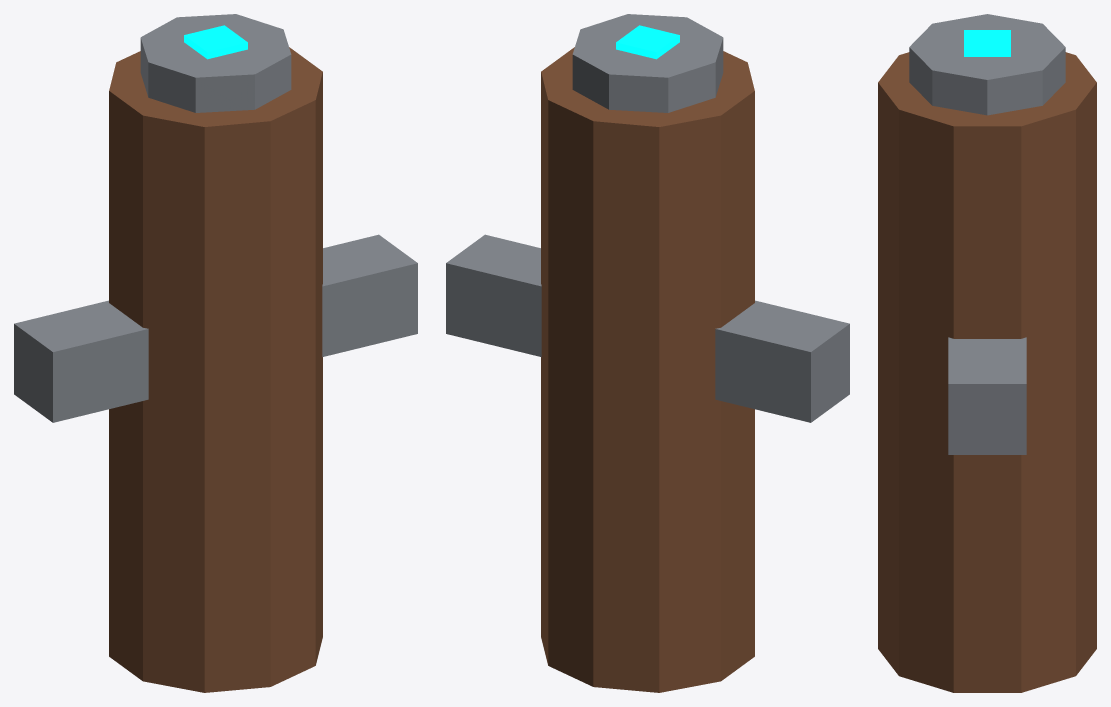
The model's file is PROP_Hydrant_Cyber.glb.
The picture shows the model from 3 angles, left to right: view 1: azimuth 30°, elevation 25°; view 2: azimuth 150°, elevation 25°; view 3: azimuth 270°, elevation 25°; orthographic projection.
Parts seen in each view (by area): view 1: PROP_Hydrant_Cyber; view 2: PROP_Hydrant_Cyber; view 3: PROP_Hydrant_Cyber.
Part boxes in pixels (box(x1,y1,x2,y2)): PROP_Hydrant_Cyber: box(14, 14, 417, 692); PROP_Hydrant_Cyber: box(446, 14, 849, 692); PROP_Hydrant_Cyber: box(878, 14, 1096, 692).
Size of the model in its own units: 0.54 by 0.86 by 0.28.
